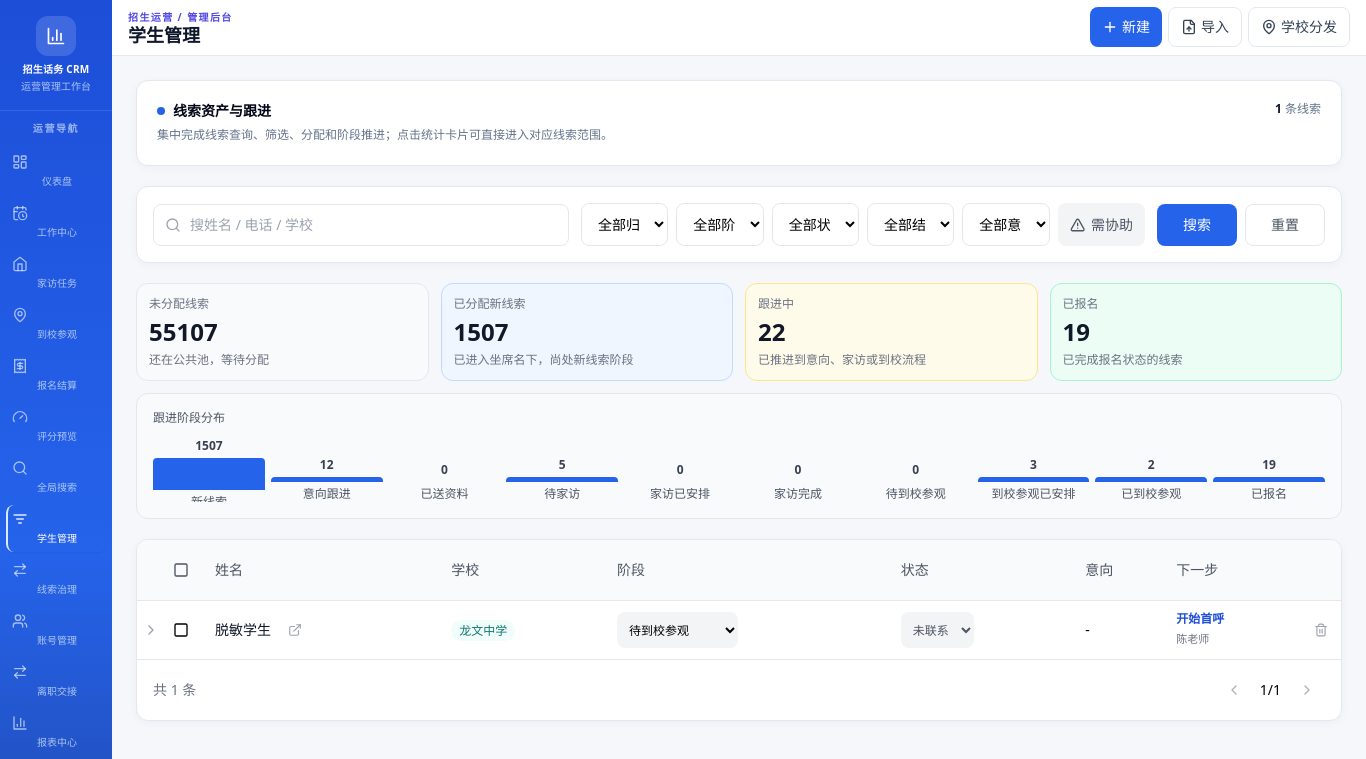
LeadsManage privacy › loads plaintext phone through the audited endpoint before editing
The width and height of the screenshot is (1366, 759).
Click the text "脱敏学生": {"x": 243, "y": 630} [215, 620, 271, 640]
(page scrolled)
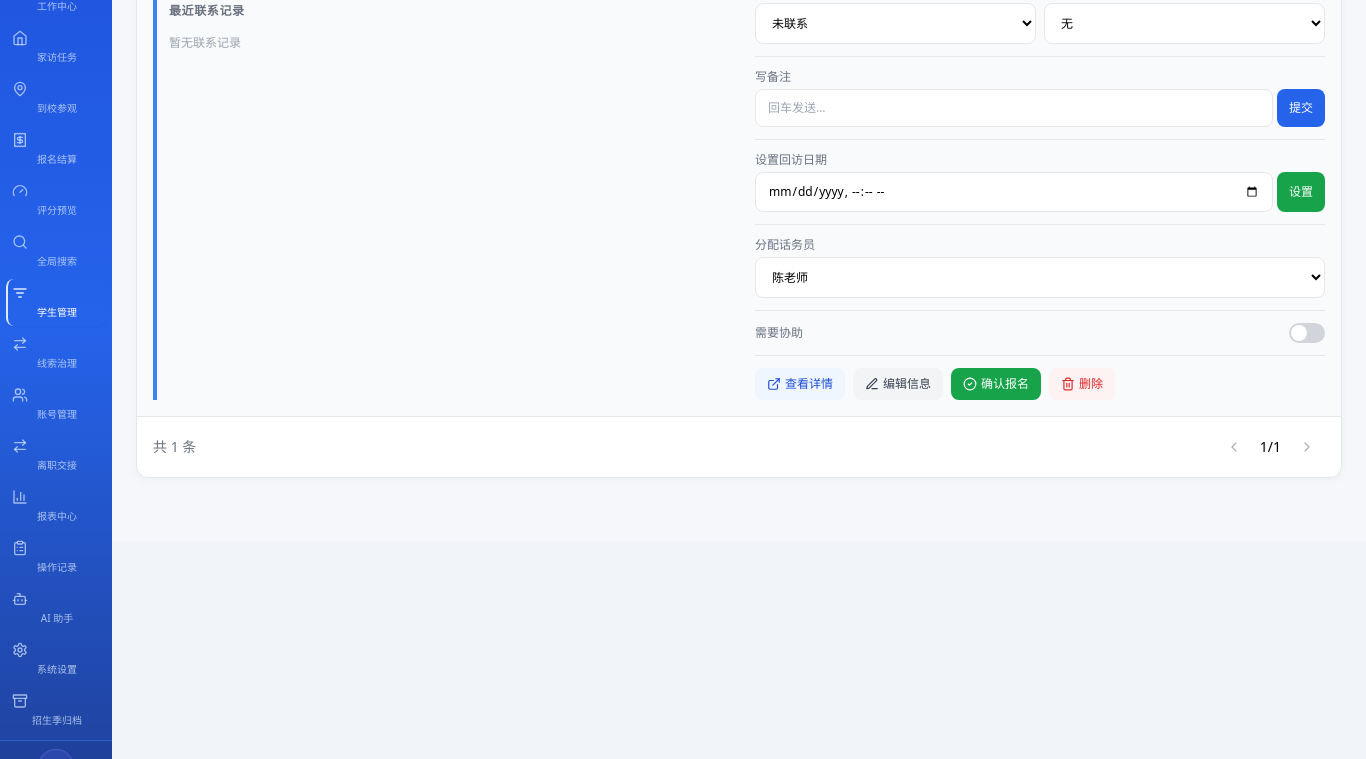
Click the button "编辑信息": {"x": 898, "y": 384} [853, 368, 943, 400]
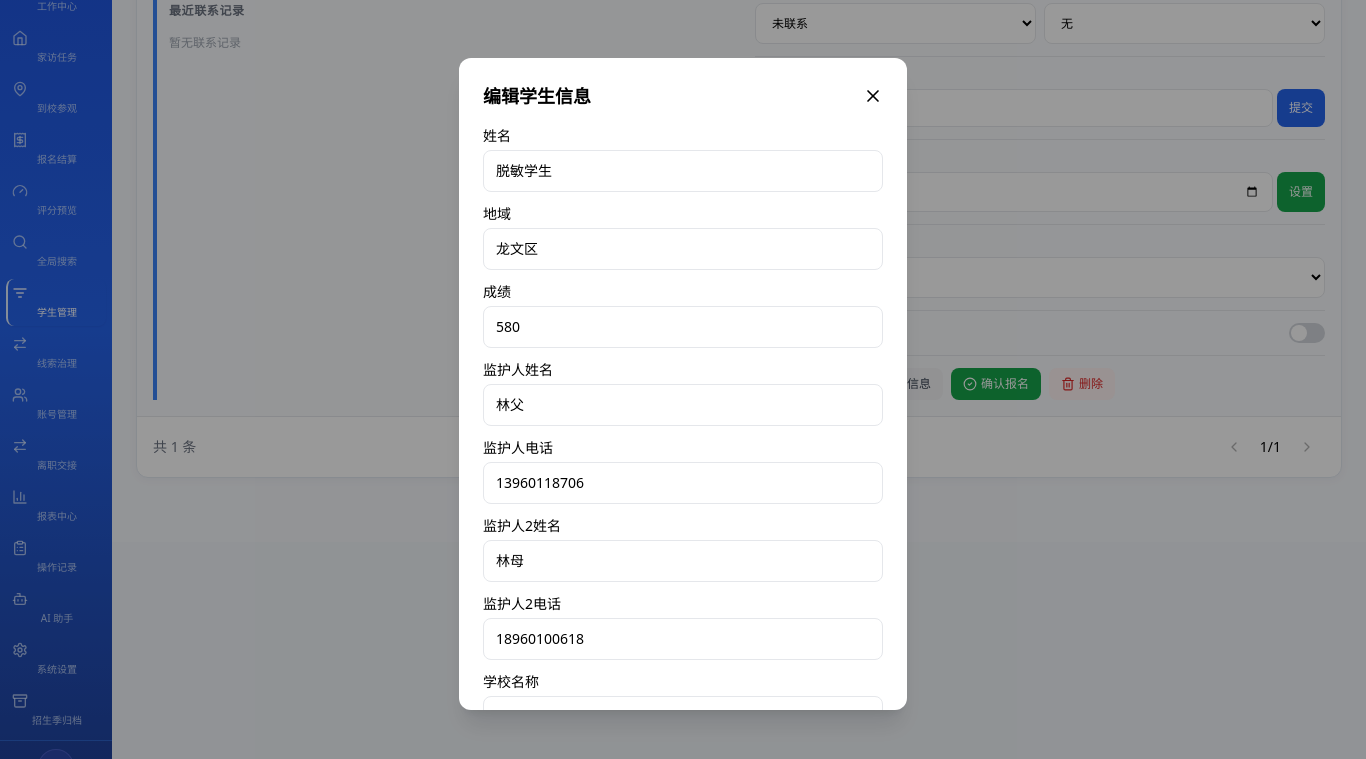
Expected: the field showing "13960118706" is shown, [483, 462, 883, 504]
Expected: the field showing "18960100618" is shown, [483, 618, 883, 660]
